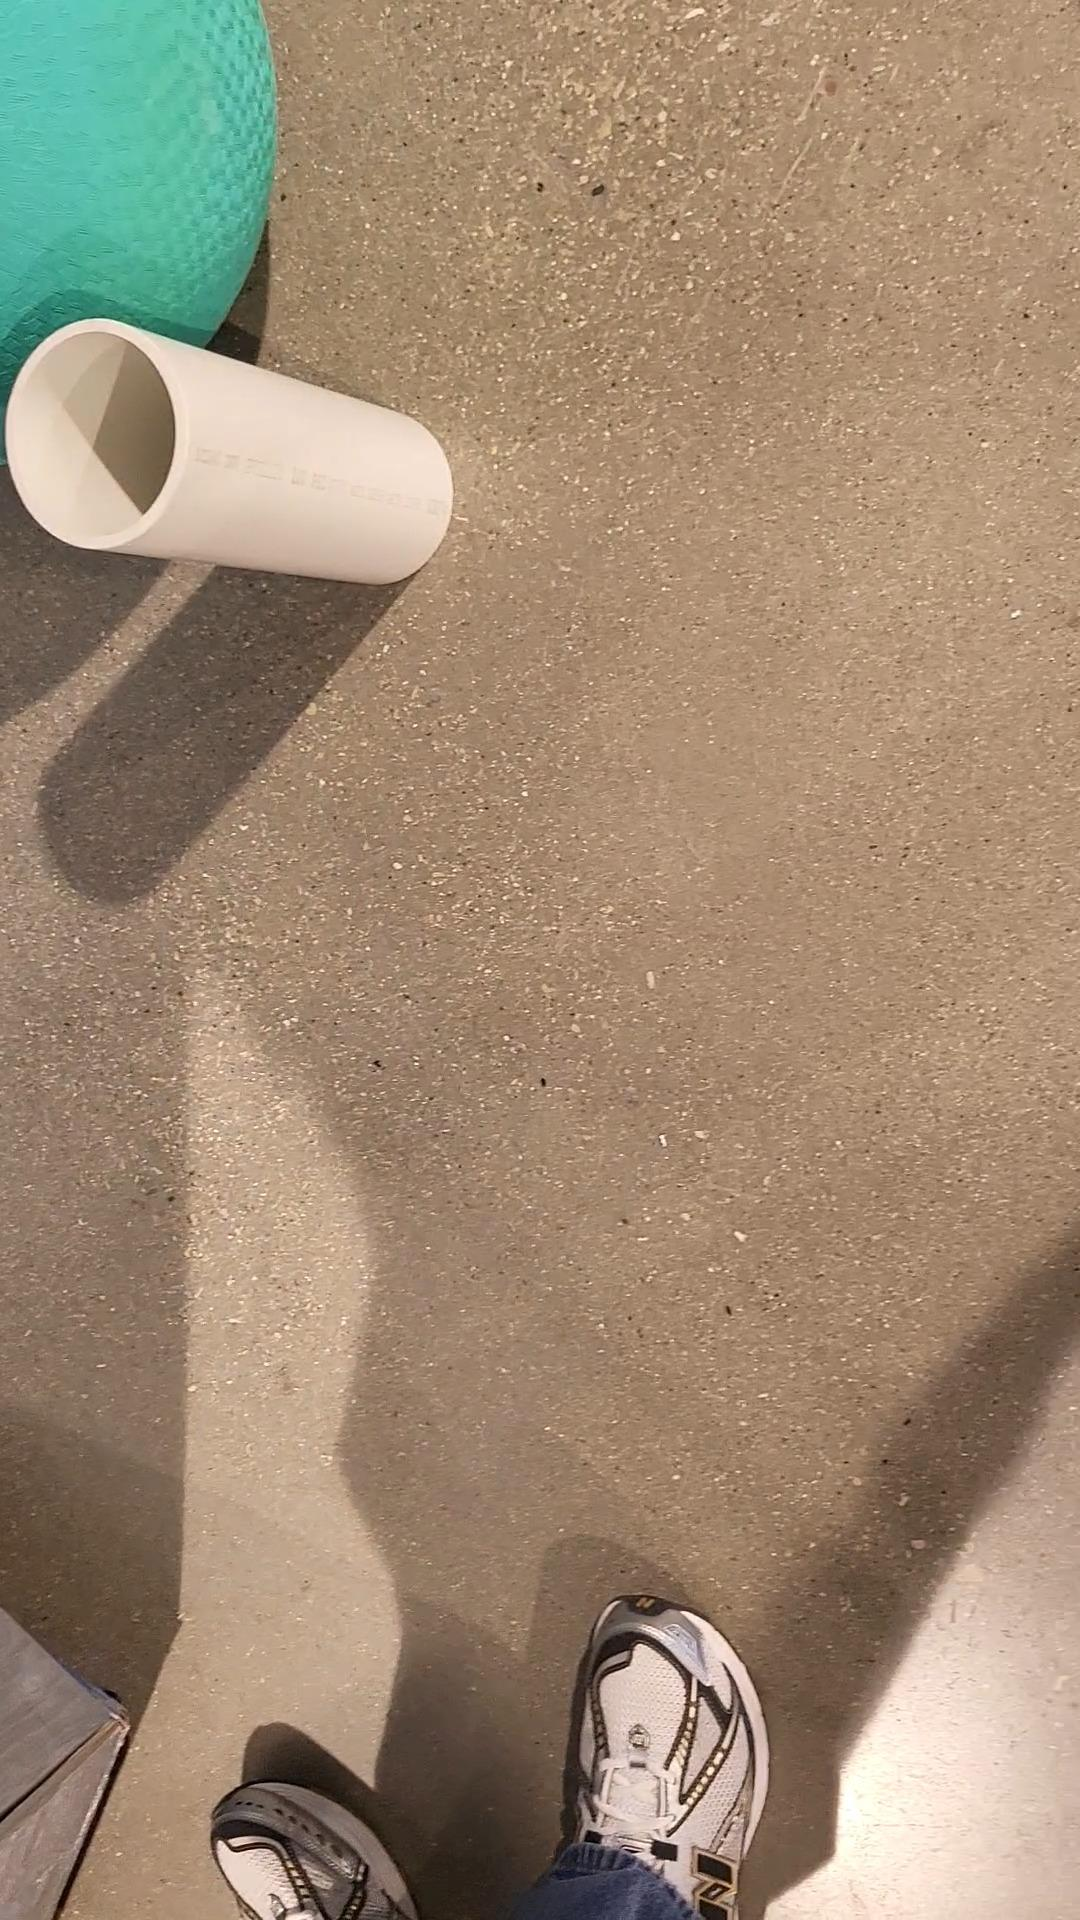algae: (0, 0, 270, 422)
coral: (0, 320, 452, 583)
